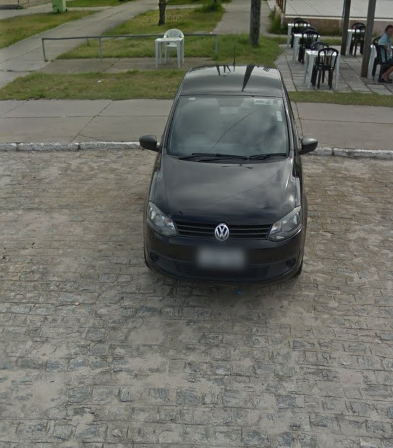car: (136, 43, 322, 286)
